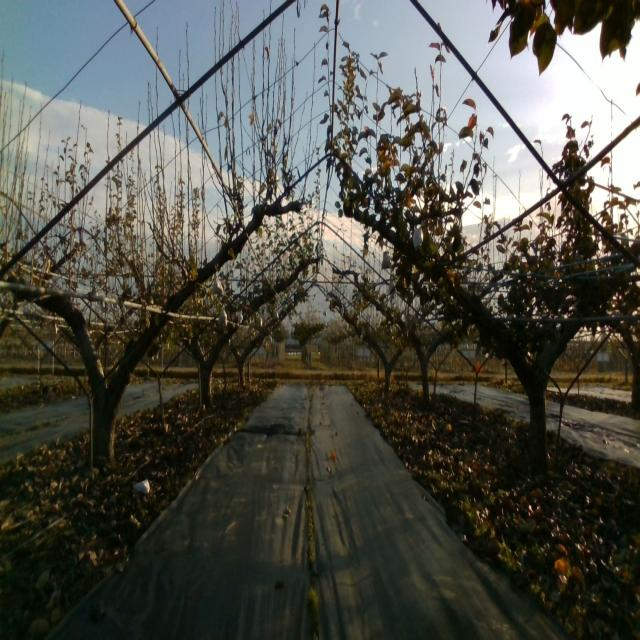pearbags: (413, 224, 424, 252)
